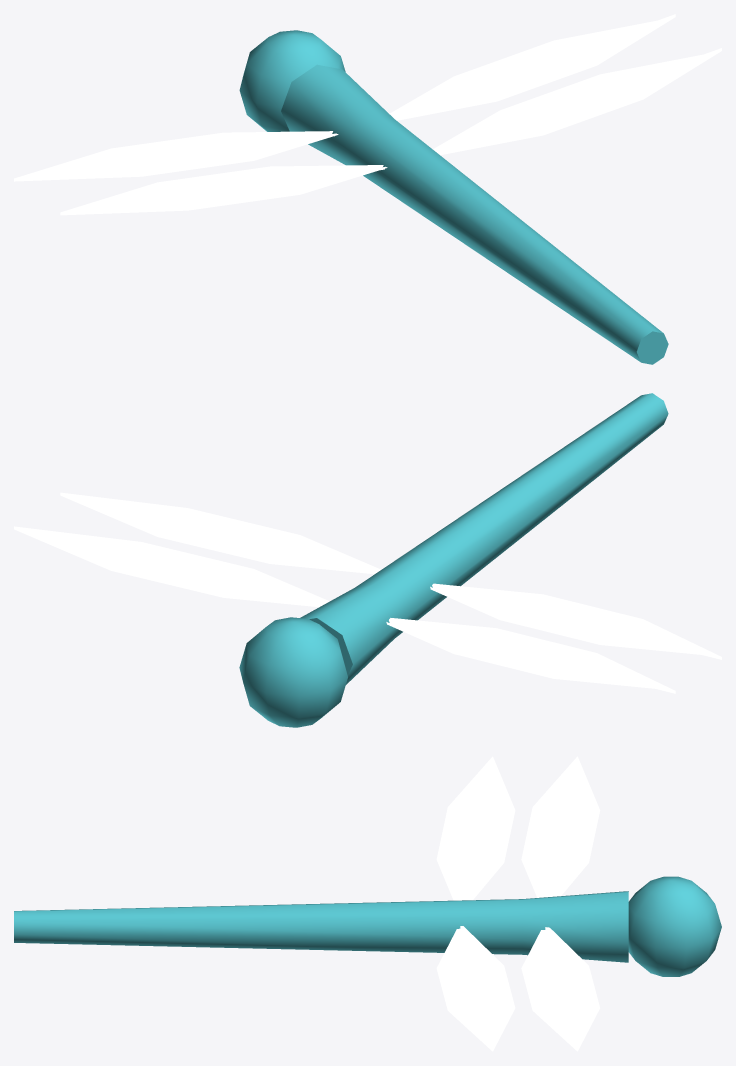
The model's file is libelle.glb.
3 renders of one model, top to bottom at view 1: azimuth 30°, elevation 25°; view 2: azimuth 150°, elevation 25°; view 3: azimuth 270°, elevation 25°, orthographic. The views are drawn at different scales.
Parts seen in each view (by area): view 1: libelle_lod0; view 2: libelle_lod0; view 3: libelle_lod0.
Part boxes in pixels (x1=…): libelle_lod0: x1=14, y1=14, x2=721, y2=364; libelle_lod0: x1=14, y1=393, x2=721, y2=727; libelle_lod0: x1=14, y1=756, x2=721, y2=1051.
Size of what is drawn, in the model's own units: 1.65 by 0.24 by 1.67.
